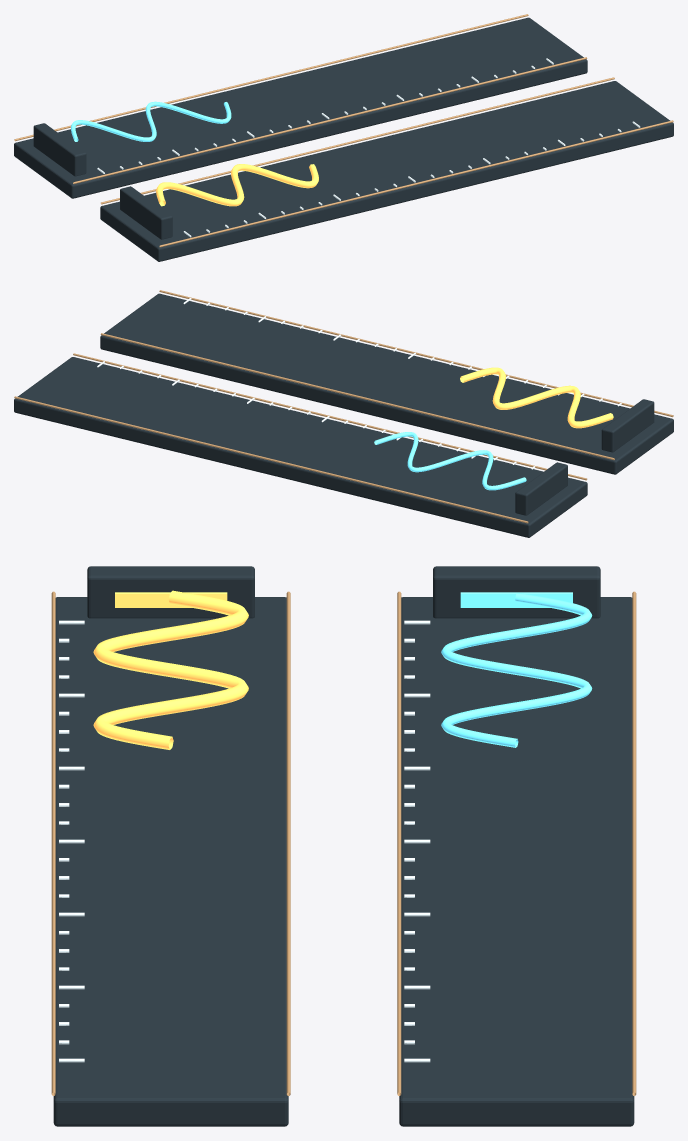
The model's file is redshift.glb.
3 views of the same model, one above another, from view 1: azimuth 30°, elevation 25°; view 2: azimuth 150°, elevation 25°; view 3: azimuth 270°, elevation 25° (orthographic). The views are drawn at different scales.
Parts seen in each view (by area): view 1: Anodização grafite, Bronze escovado, Measure, Calibração em ciano, Escala gravada; view 2: Anodização grafite, Bronze escovado, Measure, Calibração em ciano, Escala gravada; view 3: Anodização grafite, Bronze escovado, Measure, Calibração em ciano, Escala gravada, Fenda luminosa.001.
Boxes of the visible parts, x1,y1,x2,y2 form: Anodização grafite: (14, 17, 673, 261); Bronze escovado: (14, 14, 673, 247); Measure: (156, 164, 318, 206); Calibração em ciano: (71, 101, 231, 141); Escala gravada: (97, 58, 640, 237); Anodização grafite: (14, 293, 673, 537); Bronze escovado: (14, 290, 673, 523); Measure: (460, 367, 613, 428); Calibração em ciano: (374, 432, 526, 490); Escala gravada: (97, 298, 621, 469); Anodização grafite: (53, 566, 634, 1126); Bronze escovado: (51, 591, 636, 1095); Measure: (93, 590, 248, 749); Calibração em ciano: (441, 592, 592, 747); Escala gravada: (59, 620, 430, 1062); Fenda luminosa.001: (115, 592, 227, 607).
Size of the model in its own units: 6.9 by 0.445 by 3.38.
